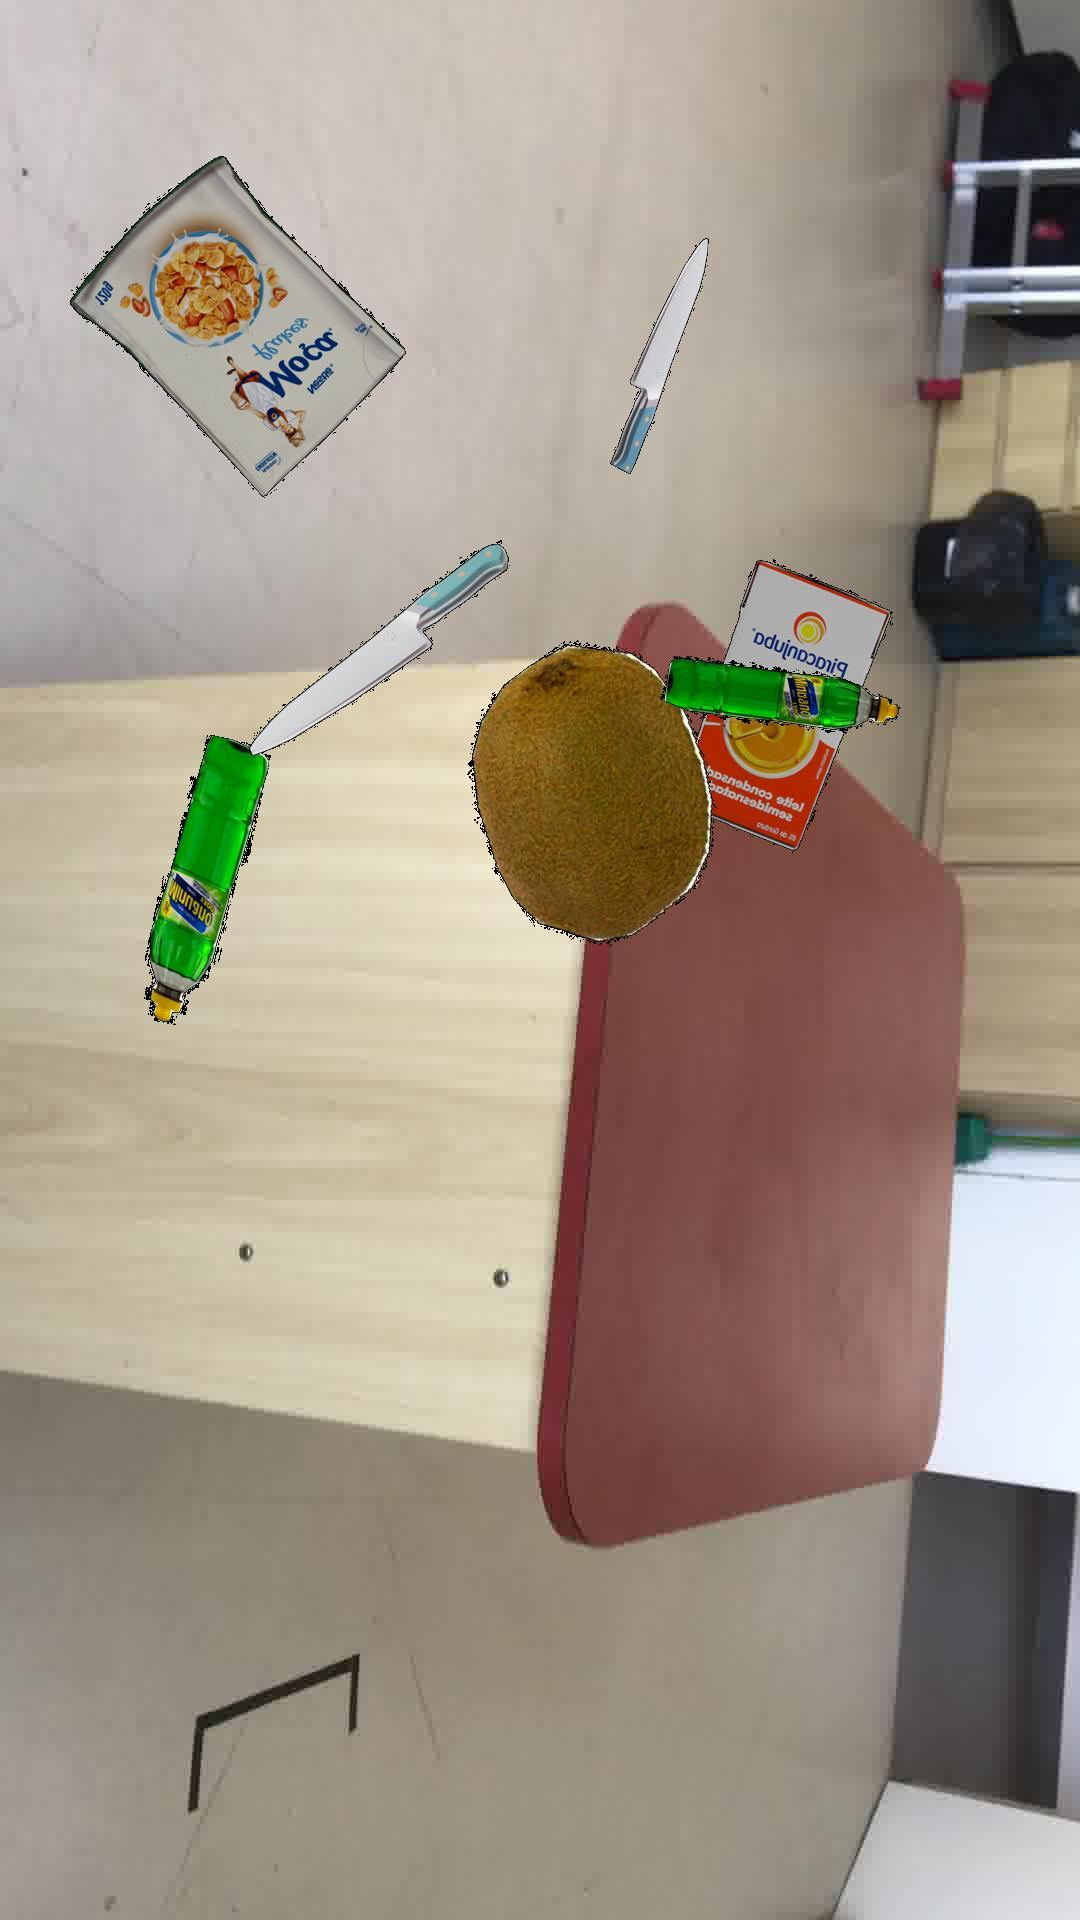cleaner: (142, 733, 269, 1022), (658, 654, 899, 732)
corn flakes: (69, 154, 405, 496)
kiwi: (467, 641, 716, 943)
knife: (248, 539, 508, 754), (608, 236, 708, 472)
